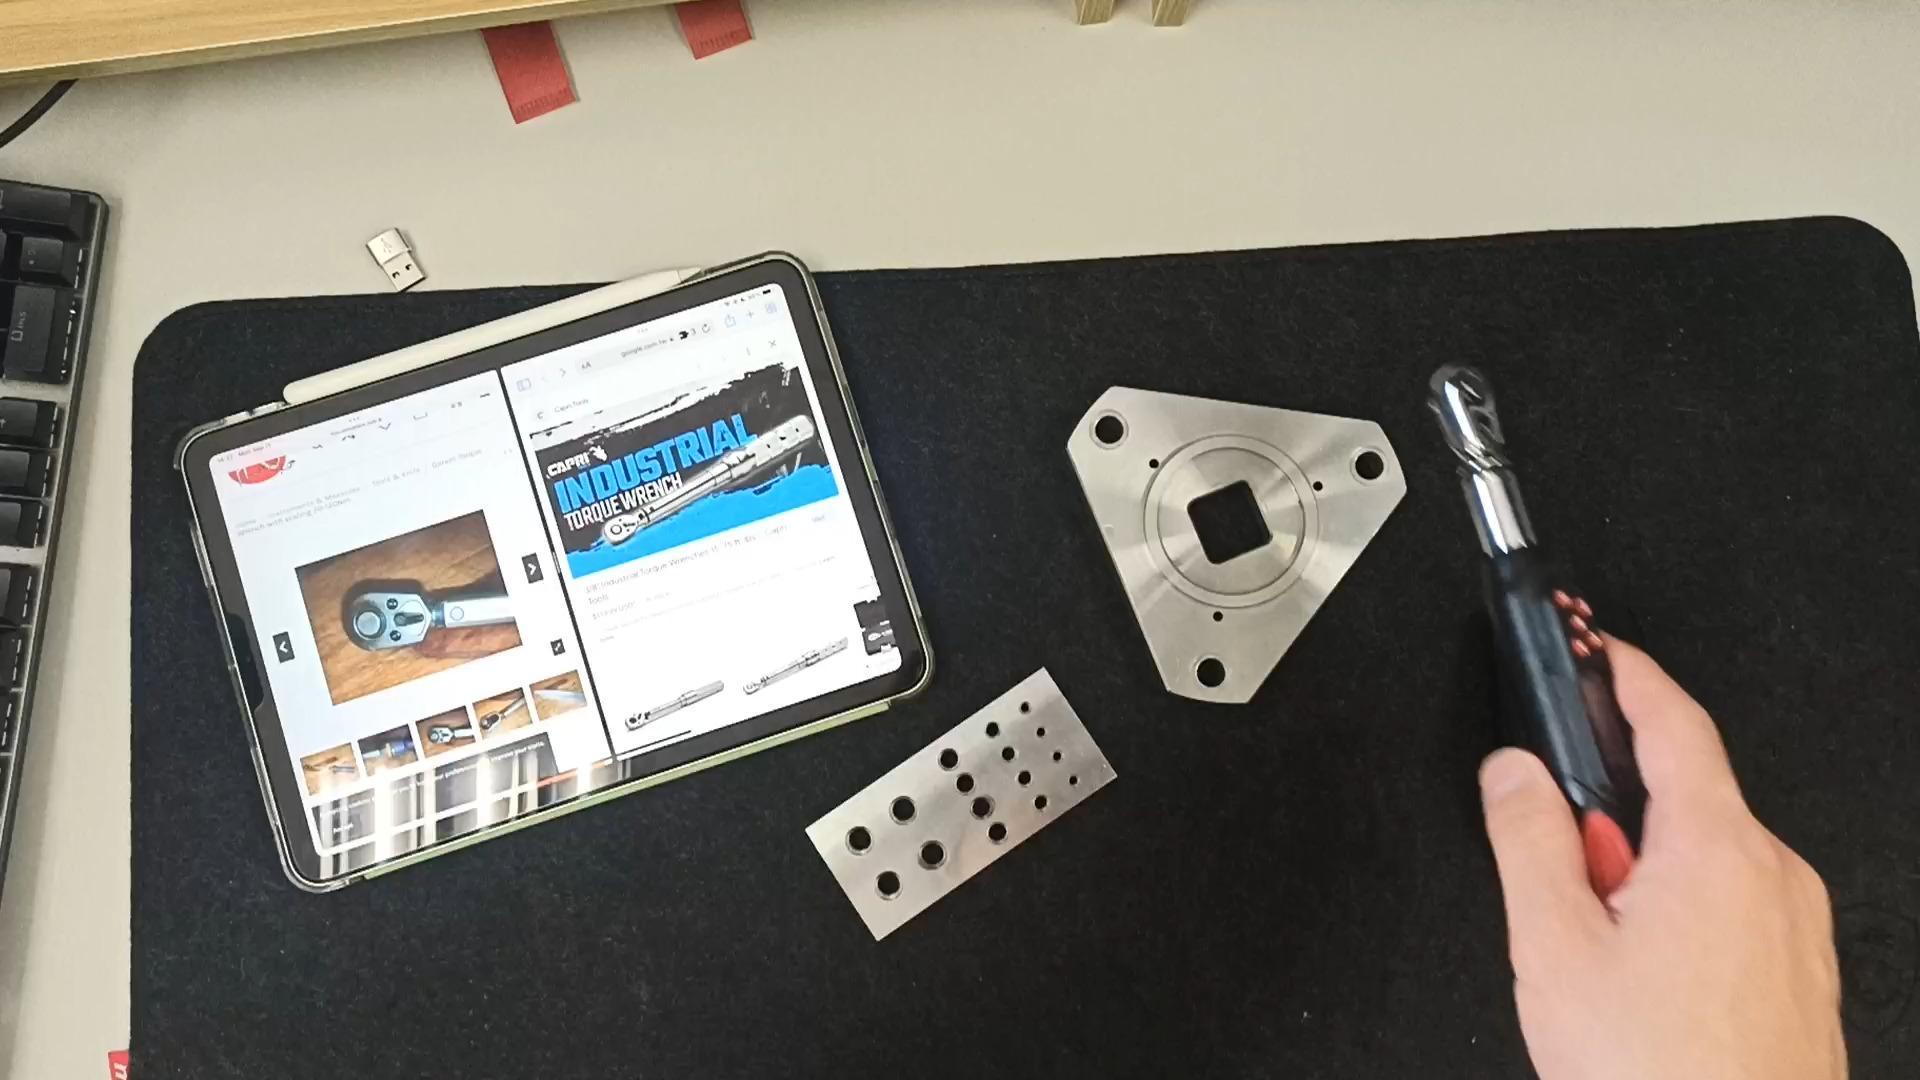Tool: (1416, 340, 1514, 469), (336, 564, 440, 651), (597, 504, 645, 550)
hole: (1172, 653, 1242, 700), (1329, 448, 1394, 491), (1076, 417, 1135, 458), (865, 868, 923, 903), (833, 825, 889, 861), (914, 840, 968, 876), (884, 793, 938, 827), (931, 746, 977, 774), (976, 799, 1019, 824), (985, 822, 1029, 847), (951, 779, 992, 802), (982, 717, 1022, 738), (1000, 749, 1035, 769), (1017, 699, 1052, 719), (1010, 769, 1042, 786)
